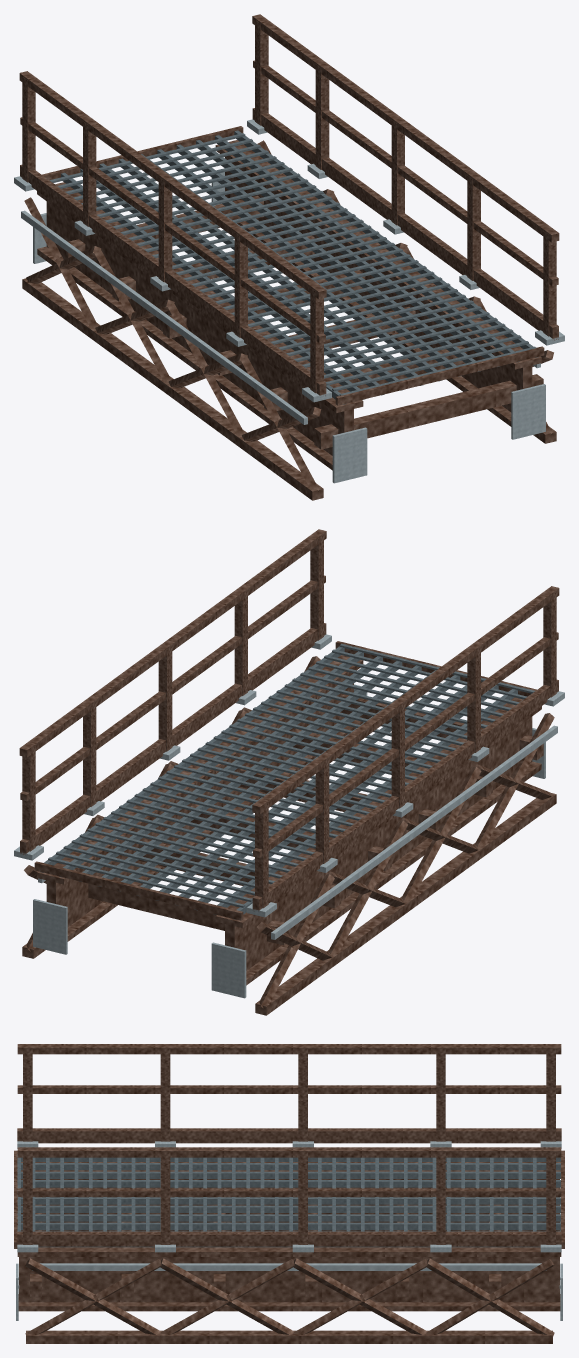
The model's file is PZ_Caldera_Span_06m_HeatWeathered.glb.
3 renders of one model, top to bottom at view 1: azimuth 30°, elevation 25°; view 2: azimuth 150°, elevation 25°; view 3: azimuth 270°, elevation 25°, orthographic. The views are drawn at different scales.
Parts seen in each view (by area): view 1: PZ_Caldera_Span_06m_HeatWeathered_WALKWAY_TRANSVERSE_SERRATE, PZ_Caldera_Span_06m_HeatWeathered_WALKWAY_LONGITUDINAL_BEARE, PZ_Caldera_Span_06m_HeatWeathered_TRANSVERSE_BRIDGE_CROSSBEA, PZ_Caldera_Span_06m_HeatWeathered_LEFT_LONGITUDINAL_I_BEAM_W, PZ_Caldera_Span_06m_HeatWeathered_LEFT_SIDE_TRUSS_X_BRACES, PZ_Caldera_Span_06m_HeatWeathered_RIGHT_UPRIGHT_POSTS, PZ_Caldera_Span_06m_HeatWeathered_LEFT_UPRIGHT_POSTS, PZ_Caldera_Span_06m_HeatWeathered_LEFT_LOWER_CHORD, PZ_Caldera_Span_06m_HeatWeathered_RIGHT_TOE_KICK_PLATE, PZ_Caldera_Span_06m_HeatWeathered_LEFT_TOE_KICK_PLATE, PZ_Caldera_Span_06m_HeatWeathered_LEFT_TOP_HANDRAIL, PZ_Caldera_Span_06m_HeatWeathered_RIGHT_TOP_HANDRAIL (+13 smaller); view 2: PZ_Caldera_Span_06m_HeatWeathered_WALKWAY_TRANSVERSE_SERRATE, PZ_Caldera_Span_06m_HeatWeathered_WALKWAY_LONGITUDINAL_BEARE, PZ_Caldera_Span_06m_HeatWeathered_LEFT_SIDE_TRUSS_X_BRACES, PZ_Caldera_Span_06m_HeatWeathered_LEFT_LONGITUDINAL_I_BEAM_W, PZ_Caldera_Span_06m_HeatWeathered_TRANSVERSE_BRIDGE_CROSSBEA, PZ_Caldera_Span_06m_HeatWeathered_RIGHT_UPRIGHT_POSTS, PZ_Caldera_Span_06m_HeatWeathered_LEFT_UPRIGHT_POSTS, PZ_Caldera_Span_06m_HeatWeathered_RIGHT_TOE_KICK_PLATE, PZ_Caldera_Span_06m_HeatWeathered_LEFT_TOE_KICK_PLATE, PZ_Caldera_Span_06m_HeatWeathered_LEFT_LOWER_CHORD, PZ_Caldera_Span_06m_HeatWeathered_LEFT_TOP_HANDRAIL, PZ_Caldera_Span_06m_HeatWeathered_RIGHT_TOP_HANDRAIL (+14 smaller); view 3: PZ_Caldera_Span_06m_HeatWeathered_WALKWAY_LONGITUDINAL_BEARE, PZ_Caldera_Span_06m_HeatWeathered_RIGHT_LONGITUDINAL_I_BEAM_, PZ_Caldera_Span_06m_HeatWeathered_RIGHT_SIDE_TRUSS_X_BRACES, PZ_Caldera_Span_06m_HeatWeathered_WALKWAY_TRANSVERSE_SERRATE, PZ_Caldera_Span_06m_HeatWeathered_RIGHT_TOE_KICK_PLATE, PZ_Caldera_Span_06m_HeatWeathered_LEFT_TOE_KICK_PLATE, PZ_Caldera_Span_06m_HeatWeathered_RIGHT_LOWER_CHORD, PZ_Caldera_Span_06m_HeatWeathered_RIGHT_TOP_HANDRAIL, PZ_Caldera_Span_06m_HeatWeathered_LEFT_TOP_HANDRAIL, PZ_Caldera_Span_06m_HeatWeathered_RIGHT_I_BEAM_TOP_FLANGE, PZ_Caldera_Span_06m_HeatWeathered_LEFT_UPRIGHT_POSTS, PZ_Caldera_Span_06m_HeatWeathered_RIGHT_UPRIGHT_POSTS (+12 smaller).
Part boxes in pixels (<box>): PZ_Caldera_Span_06m_HeatWeathered_WALKWAY_TRANSVERSE_SERRATE: <box>50,133,536,395</box>; PZ_Caldera_Span_06m_HeatWeathered_WALKWAY_LONGITUDINAL_BEARE: <box>46,130,538,404</box>; PZ_Caldera_Span_06m_HeatWeathered_TRANSVERSE_BRIDGE_CROSSBEA: <box>61,195,543,449</box>; PZ_Caldera_Span_06m_HeatWeathered_LEFT_LONGITUDINAL_I_BEAM_W: <box>46,201,353,455</box>; PZ_Caldera_Span_06m_HeatWeathered_LEFT_SIDE_TRUSS_X_BRACES: <box>24,197,321,491</box>; PZ_Caldera_Span_06m_HeatWeathered_RIGHT_UPRIGHT_POSTS: <box>255,20,556,336</box>; PZ_Caldera_Span_06m_HeatWeathered_LEFT_UPRIGHT_POSTS: <box>22,77,323,393</box>; PZ_Caldera_Span_06m_HeatWeathered_LEFT_LOWER_CHORD: <box>22,278,323,500</box>; PZ_Caldera_Span_06m_HeatWeathered_RIGHT_TOE_KICK_PLATE: <box>252,108,558,340</box>; PZ_Caldera_Span_06m_HeatWeathered_LEFT_TOE_KICK_PLATE: <box>20,164,326,395</box>; PZ_Caldera_Span_06m_HeatWeathered_LEFT_TOP_HANDRAIL: <box>19,71,326,299</box>; PZ_Caldera_Span_06m_HeatWeathered_RIGHT_TOP_HANDRAIL: <box>252,14,559,242</box>; PZ_Caldera_Span_06m_HeatWeathered_WALKWAY_TRANSVERSE_SERRATE: <box>48,643,534,907</box>; PZ_Caldera_Span_06m_HeatWeathered_WALKWAY_LONGITUDINAL_BEARE: <box>40,646,529,919</box>; PZ_Caldera_Span_06m_HeatWeathered_LEFT_SIDE_TRUSS_X_BRACES: <box>257,713,554,1008</box>; PZ_Caldera_Span_06m_HeatWeathered_LEFT_LONGITUDINAL_I_BEAM_W: <box>225,716,532,970</box>; PZ_Caldera_Span_06m_HeatWeathered_TRANSVERSE_BRIDGE_CROSSBEA: <box>88,694,543,945</box>; PZ_Caldera_Span_06m_HeatWeathered_RIGHT_UPRIGHT_POSTS: <box>22,535,323,851</box>; PZ_Caldera_Span_06m_HeatWeathered_LEFT_UPRIGHT_POSTS: <box>255,592,556,908</box>; PZ_Caldera_Span_06m_HeatWeathered_RIGHT_TOE_KICK_PLATE: <box>20,623,326,854</box>; PZ_Caldera_Span_06m_HeatWeathered_LEFT_TOE_KICK_PLATE: <box>252,679,558,911</box>; PZ_Caldera_Span_06m_HeatWeathered_LEFT_LOWER_CHORD: <box>255,792,556,1015</box>; PZ_Caldera_Span_06m_HeatWeathered_LEFT_TOP_HANDRAIL: <box>252,586,559,814</box>; PZ_Caldera_Span_06m_HeatWeathered_RIGHT_TOP_HANDRAIL: <box>19,529,326,757</box>; PZ_Caldera_Span_06m_HeatWeathered_WALKWAY_LONGITUDINAL_BEARE: <box>21,1157,560,1247</box>; PZ_Caldera_Span_06m_HeatWeathered_RIGHT_LONGITUDINAL_I_BEAM_: <box>19,1257,559,1302</box>; PZ_Caldera_Span_06m_HeatWeathered_RIGHT_SIDE_TRUSS_X_BRACES: <box>25,1258,554,1336</box>; PZ_Caldera_Span_06m_HeatWeathered_WALKWAY_TRANSVERSE_SERRATE: <box>17,1154,536,1231</box>; PZ_Caldera_Span_06m_HeatWeathered_RIGHT_TOE_KICK_PLATE: <box>17,1231,561,1246</box>; PZ_Caldera_Span_06m_HeatWeathered_LEFT_TOE_KICK_PLATE: <box>17,1128,561,1143</box>; PZ_Caldera_Span_06m_HeatWeathered_RIGHT_LOWER_CHORD: <box>26,1330,552,1343</box>; PZ_Caldera_Span_06m_HeatWeathered_RIGHT_TOP_HANDRAIL: <box>17,1147,561,1157</box>; PZ_Caldera_Span_06m_HeatWeathered_LEFT_TOP_HANDRAIL: <box>17,1044,561,1054</box>; PZ_Caldera_Span_06m_HeatWeathered_RIGHT_I_BEAM_TOP_FLANGE: <box>17,1247,561,1256</box>; PZ_Caldera_Span_06m_HeatWeathered_LEFT_UPRIGHT_POSTS: <box>23,1049,555,1141</box>; PZ_Caldera_Span_06m_HeatWeathered_RIGHT_UPRIGHT_POSTS: <box>23,1152,555,1244</box>.
Size of the model in its own units: 2.88 by 2.31 by 6.
Materials: 3 (3 with a texture image).
